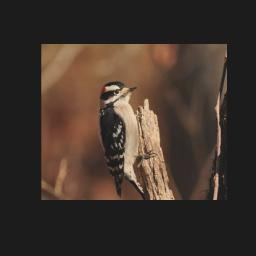Woodpecker: (98, 77, 157, 197)
